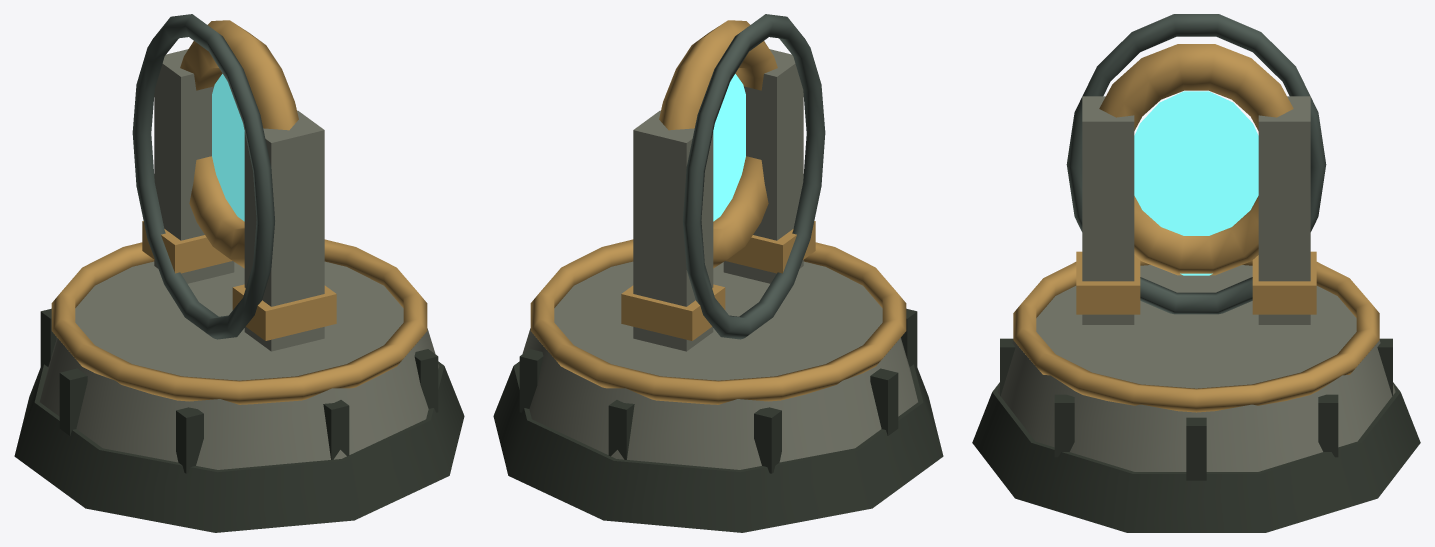
The model's file is tower_portal_portalTime.glb.
3 views of the same model, side by side, from view 1: azimuth 30°, elevation 25°; view 2: azimuth 150°, elevation 25°; view 3: azimuth 270°, elevation 25° (orthographic). The views are drawn at different scales.
Visible parts, largest first — view 1: stone_1, foot_0, rim_2, time_gate_17, arch_pillar_11, arch_pillar_13, arch_15, portal_surface_16, band_12, band_14, mortar_6, mortar_7 (+3 smaller); view 2: stone_1, foot_0, rim_2, time_gate_17, arch_pillar_13, arch_pillar_11, arch_15, portal_surface_16, band_14, band_12, mortar_8, mortar_7 (+3 smaller); view 3: stone_1, foot_0, portal_surface_16, arch_15, rim_2, time_gate_17, arch_pillar_11, arch_pillar_13, band_12, band_14, mortar_3, mortar_4 (+3 smaller).
Boxes of the visible parts, box(x1,y1,x2,y2) form: stone_1: box(40, 261, 439, 469); foot_0: box(14, 361, 464, 532); rim_2: box(51, 239, 427, 404); time_gate_17: box(132, 14, 274, 339); arch_pillar_11: box(244, 110, 324, 351); arch_pillar_13: box(154, 49, 234, 283); arch_15: box(180, 20, 298, 268); portal_surface_16: box(212, 74, 244, 221); band_12: box(232, 284, 336, 340); band_14: box(142, 221, 232, 273); mortar_6: box(176, 407, 203, 473); mortar_7: box(59, 368, 87, 435); stone_1: box(518, 261, 917, 469); foot_0: box(493, 361, 943, 532); rim_2: box(530, 239, 906, 404); time_gate_17: box(683, 14, 825, 339); arch_pillar_13: box(633, 110, 713, 351); arch_pillar_11: box(723, 49, 803, 283); arch_15: box(659, 20, 777, 268); portal_surface_16: box(713, 74, 745, 221); band_14: box(621, 284, 725, 340); band_12: box(725, 221, 815, 273); mortar_8: box(754, 407, 781, 473); mortar_7: box(870, 368, 898, 435); stone_1: box(997, 265, 1395, 471); foot_0: box(972, 382, 1420, 532); portal_surface_16: box(1134, 91, 1258, 275); arch_15: box(1099, 44, 1293, 275); rim_2: box(1013, 260, 1379, 412); time_gate_17: box(1066, 14, 1326, 314); arch_pillar_11: box(1082, 96, 1134, 324); arch_pillar_13: box(1258, 96, 1310, 324); band_12: box(1076, 251, 1140, 314); band_14: box(1252, 251, 1316, 314); mortar_3: box(1186, 417, 1206, 480); mortar_4: box(1054, 394, 1074, 457).
Size of the model in its own units: 0.5326 by 0.5674 by 0.56.
